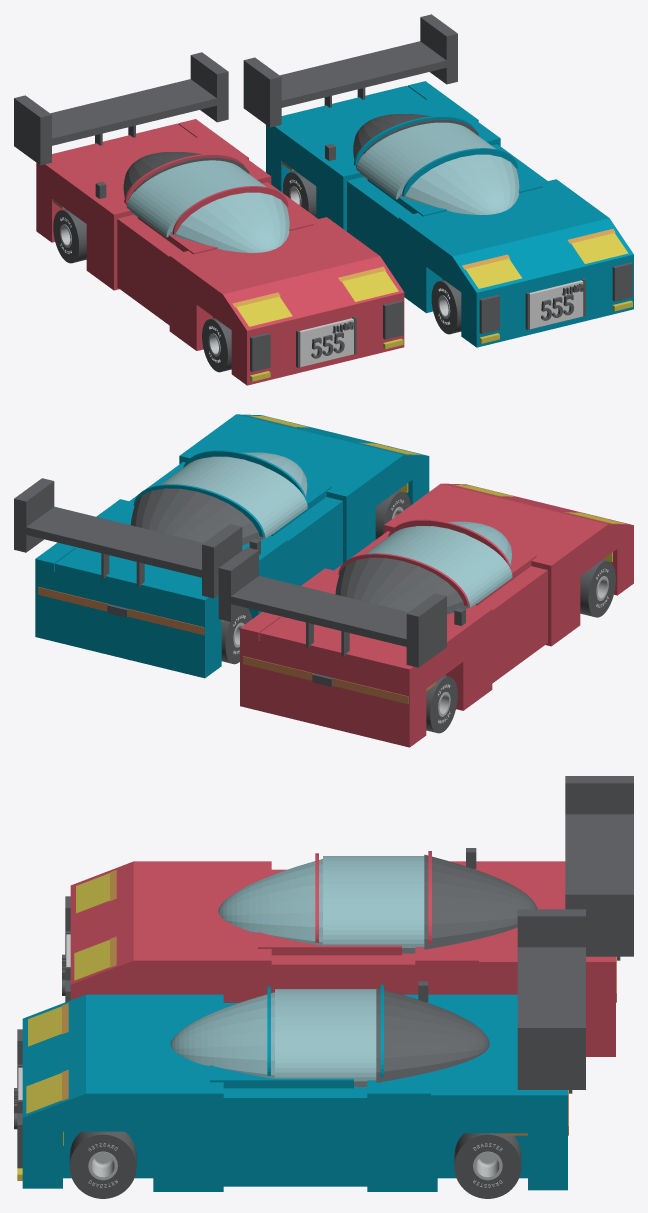
The model's file is misaki_carModel.glb.
3 views of the same model, one above another, from view 1: azimuth 30°, elevation 25°; view 2: azimuth 150°, elevation 25°; view 3: azimuth 270°, elevation 25° (orthographic). The views are drawn at different scales.
Parts seen in each view (by area): view 1: Mesh_Mesh_head_geo.001_lambert2SG.001; view 2: Mesh_Mesh_head_geo.001_lambert2SG.001; view 3: Mesh_Mesh_head_geo.001_lambert2SG.001.
Boxes of the visible parts, x1=… form: Mesh_Mesh_head_geo.001_lambert2SG.001: x1=14, y1=14, x2=633, y2=385; Mesh_Mesh_head_geo.001_lambert2SG.001: x1=14, y1=414, x2=633, y2=747; Mesh_Mesh_head_geo.001_lambert2SG.001: x1=14, y1=776, x2=633, y2=1198.
Size of the model in its own units: 174 by 58 by 181.
